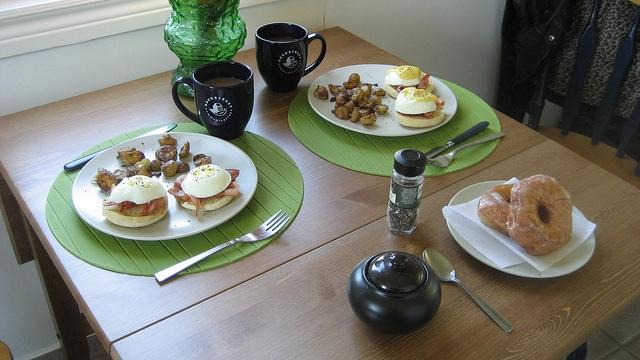potato: (95, 168, 118, 190), (122, 151, 144, 167), (160, 160, 178, 177), (135, 164, 152, 177), (360, 84, 372, 98), (352, 90, 364, 103), (150, 159, 163, 171), (358, 94, 368, 108), (343, 100, 357, 108)
